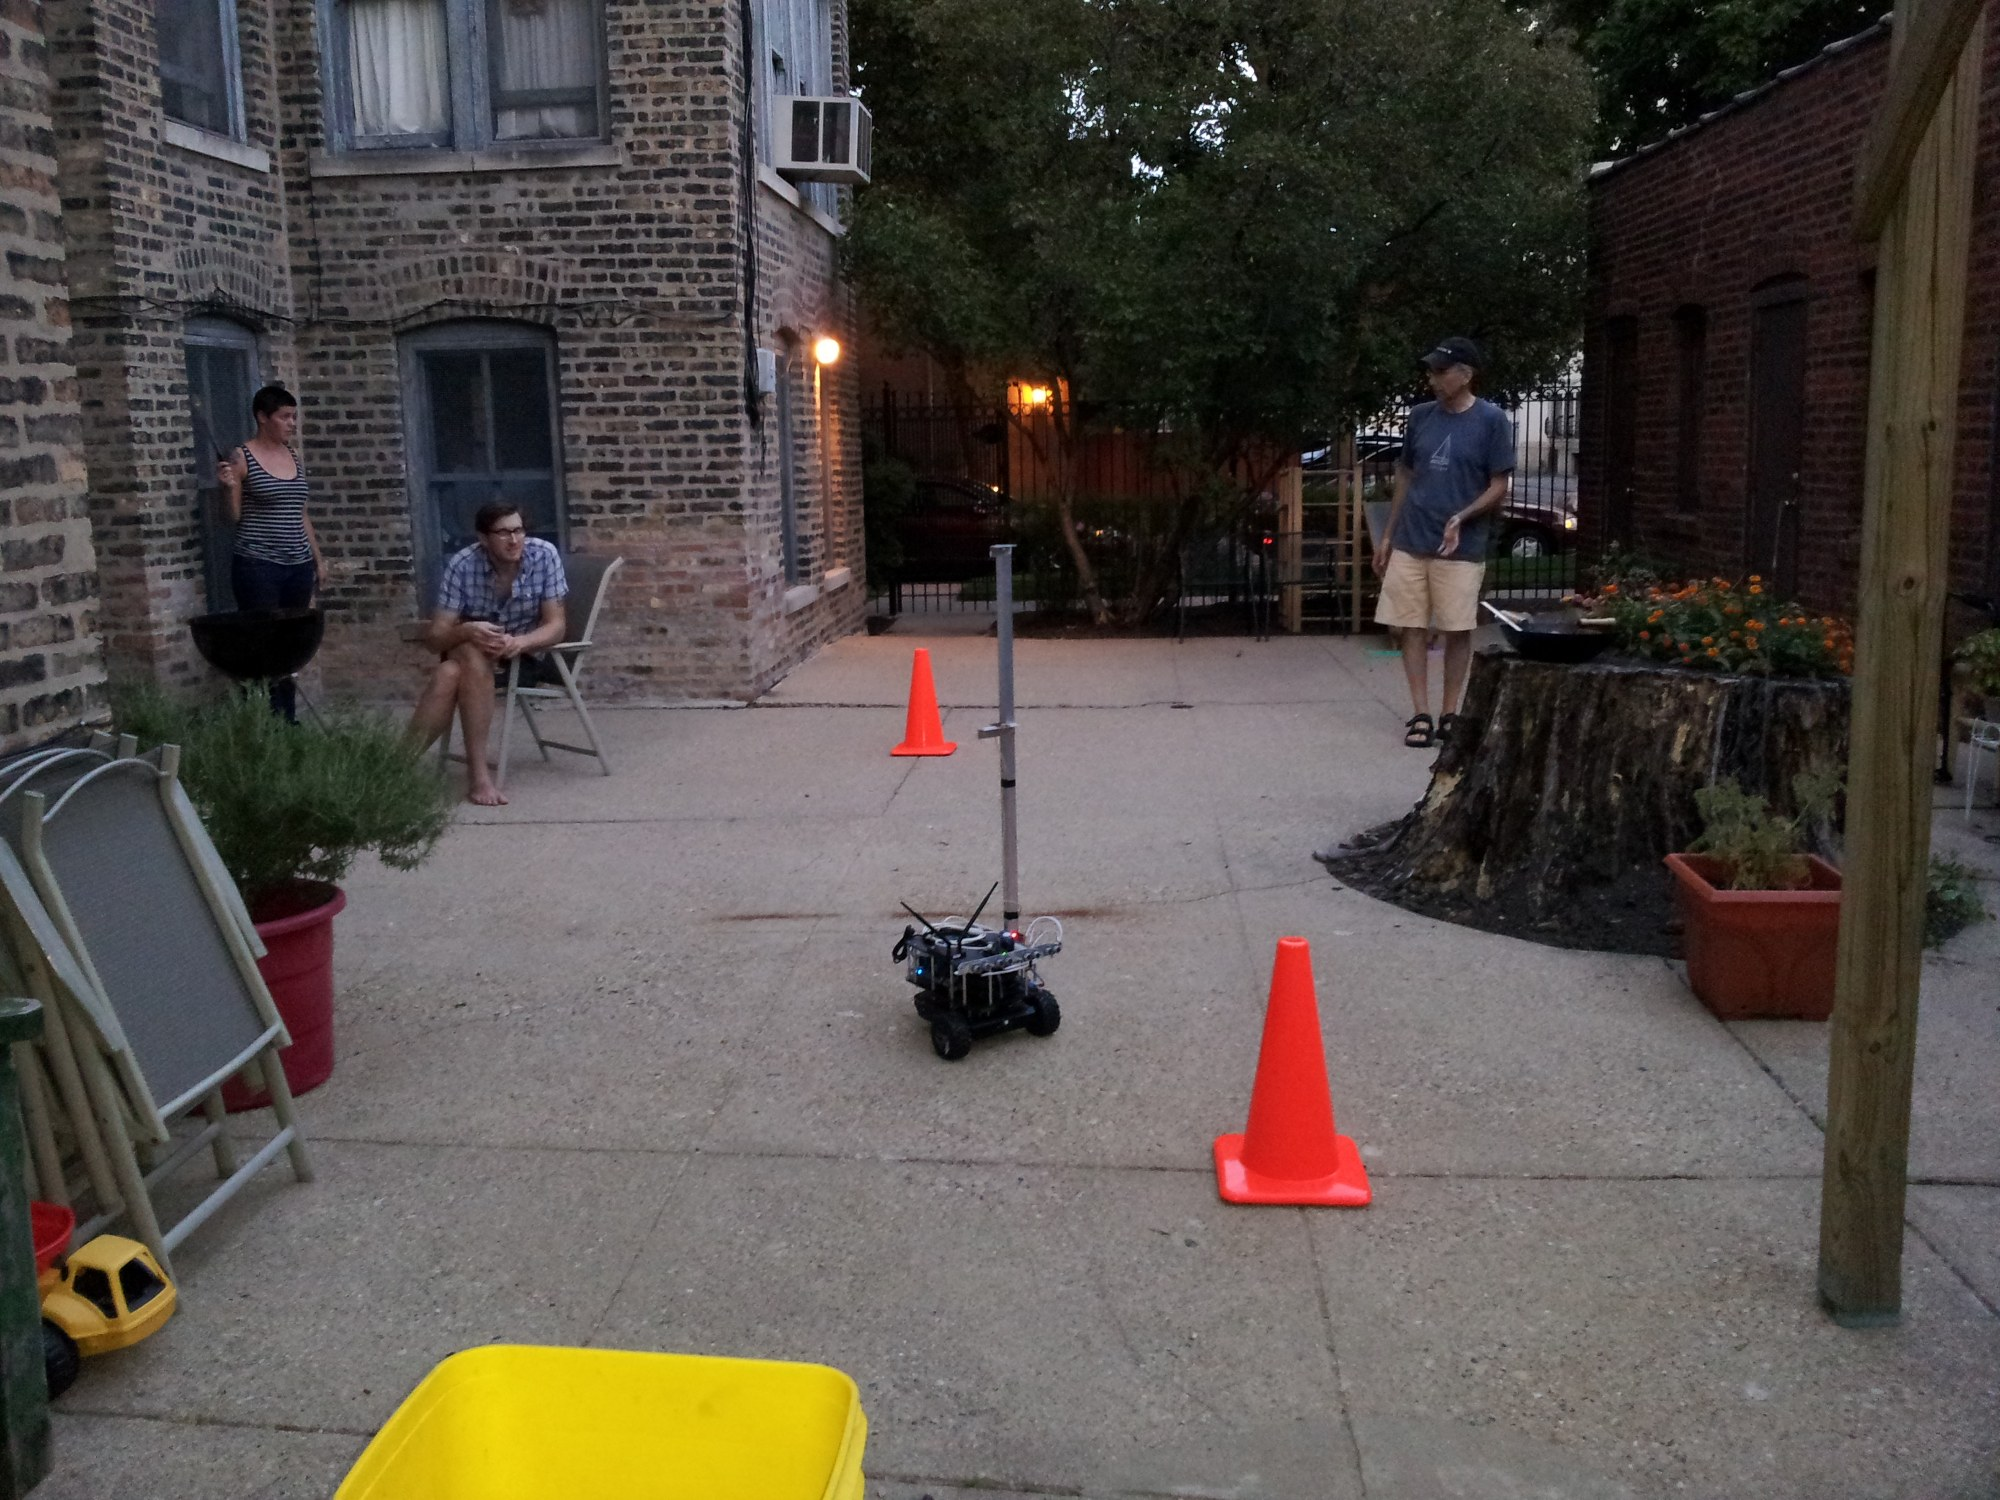trafficcone: (1208, 934, 1373, 1210), (890, 646, 961, 759)
